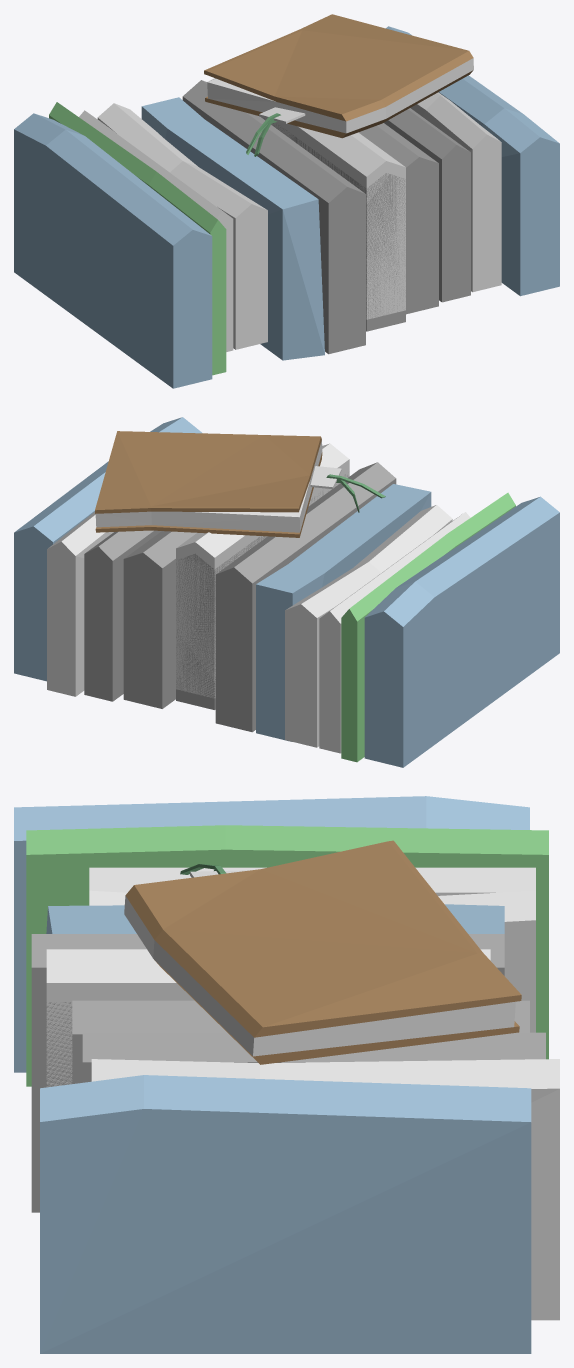
The model's file is box_books.fbx.
3 views of the same model, one above another, from view 1: azimuth 30°, elevation 25°; view 2: azimuth 150°, elevation 25°; view 3: azimuth 270°, elevation 25° (orthographic). The views are drawn at different scales.
Parts seen in each view (by area): view 1: polySurface93; view 2: polySurface93; view 3: polySurface93.
Boxes of the visible parts, x1,y1,x2,y2 form: polySurface93: [14, 14, 559, 388]; polySurface93: [14, 417, 559, 767]; polySurface93: [14, 796, 559, 1353].
Size of the model in its own units: 42.71 by 21.28 by 31.57.
